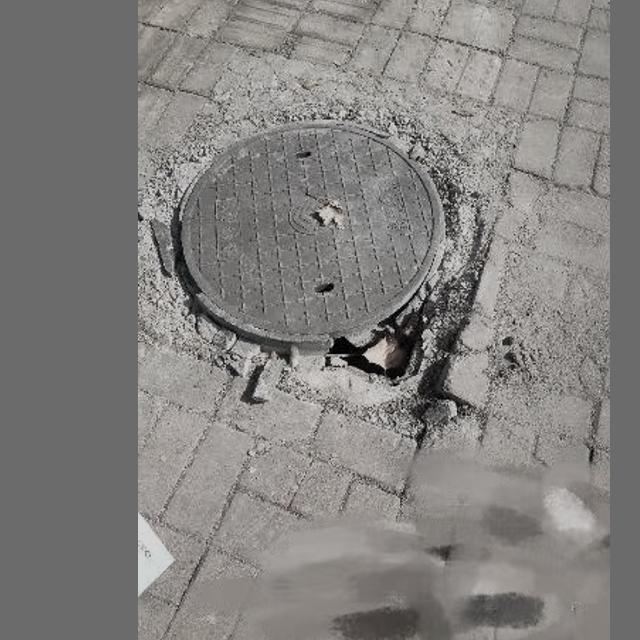circle: (138, 104, 493, 374)
